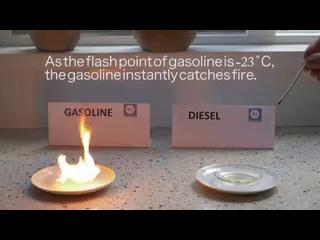Fire: (58, 111, 100, 184)
